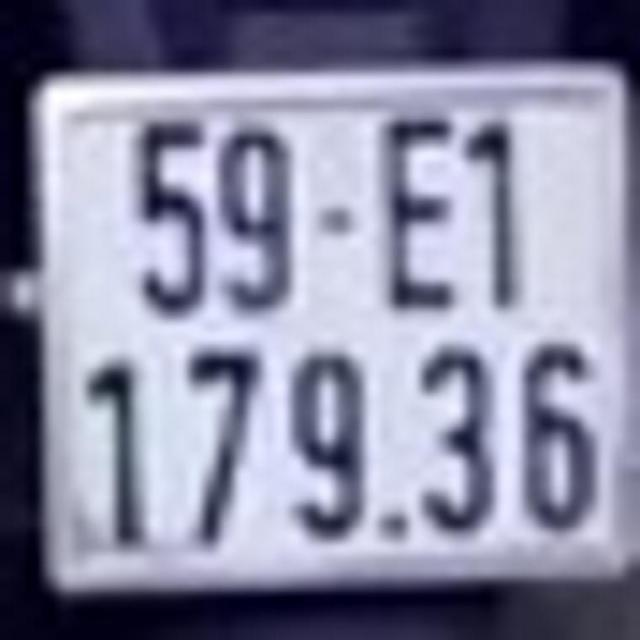1: (87, 360, 144, 545), (462, 119, 514, 312)
3: (417, 348, 497, 532)
5: (142, 122, 204, 312)
6: (521, 344, 602, 533)
7: (181, 351, 259, 544)
9: (292, 351, 366, 540), (216, 130, 293, 309)
E: (380, 116, 458, 311)
